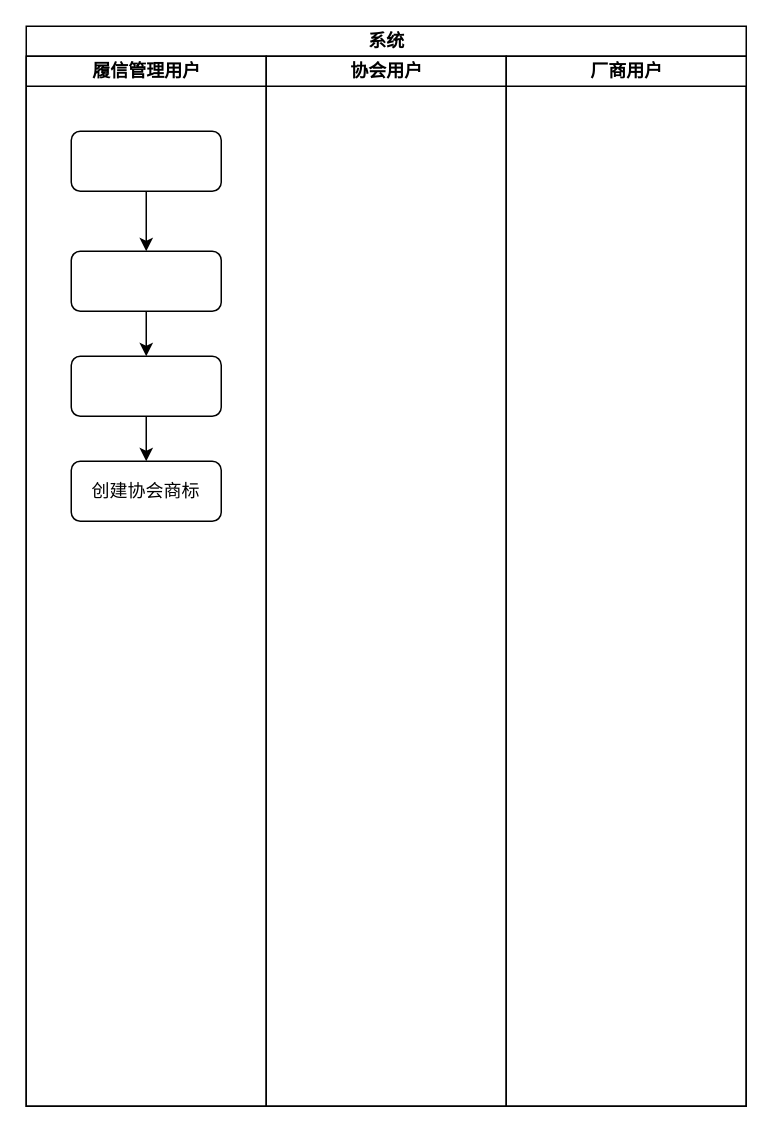
Some shapes in this 773 by 1133 pixel diagram are drawn without their labels. Each missing label, with the centre of its shape:
创建协会用户: [145,385]
创建各个类型用户的菜单: [145,280]
用户登录: [145,160]
